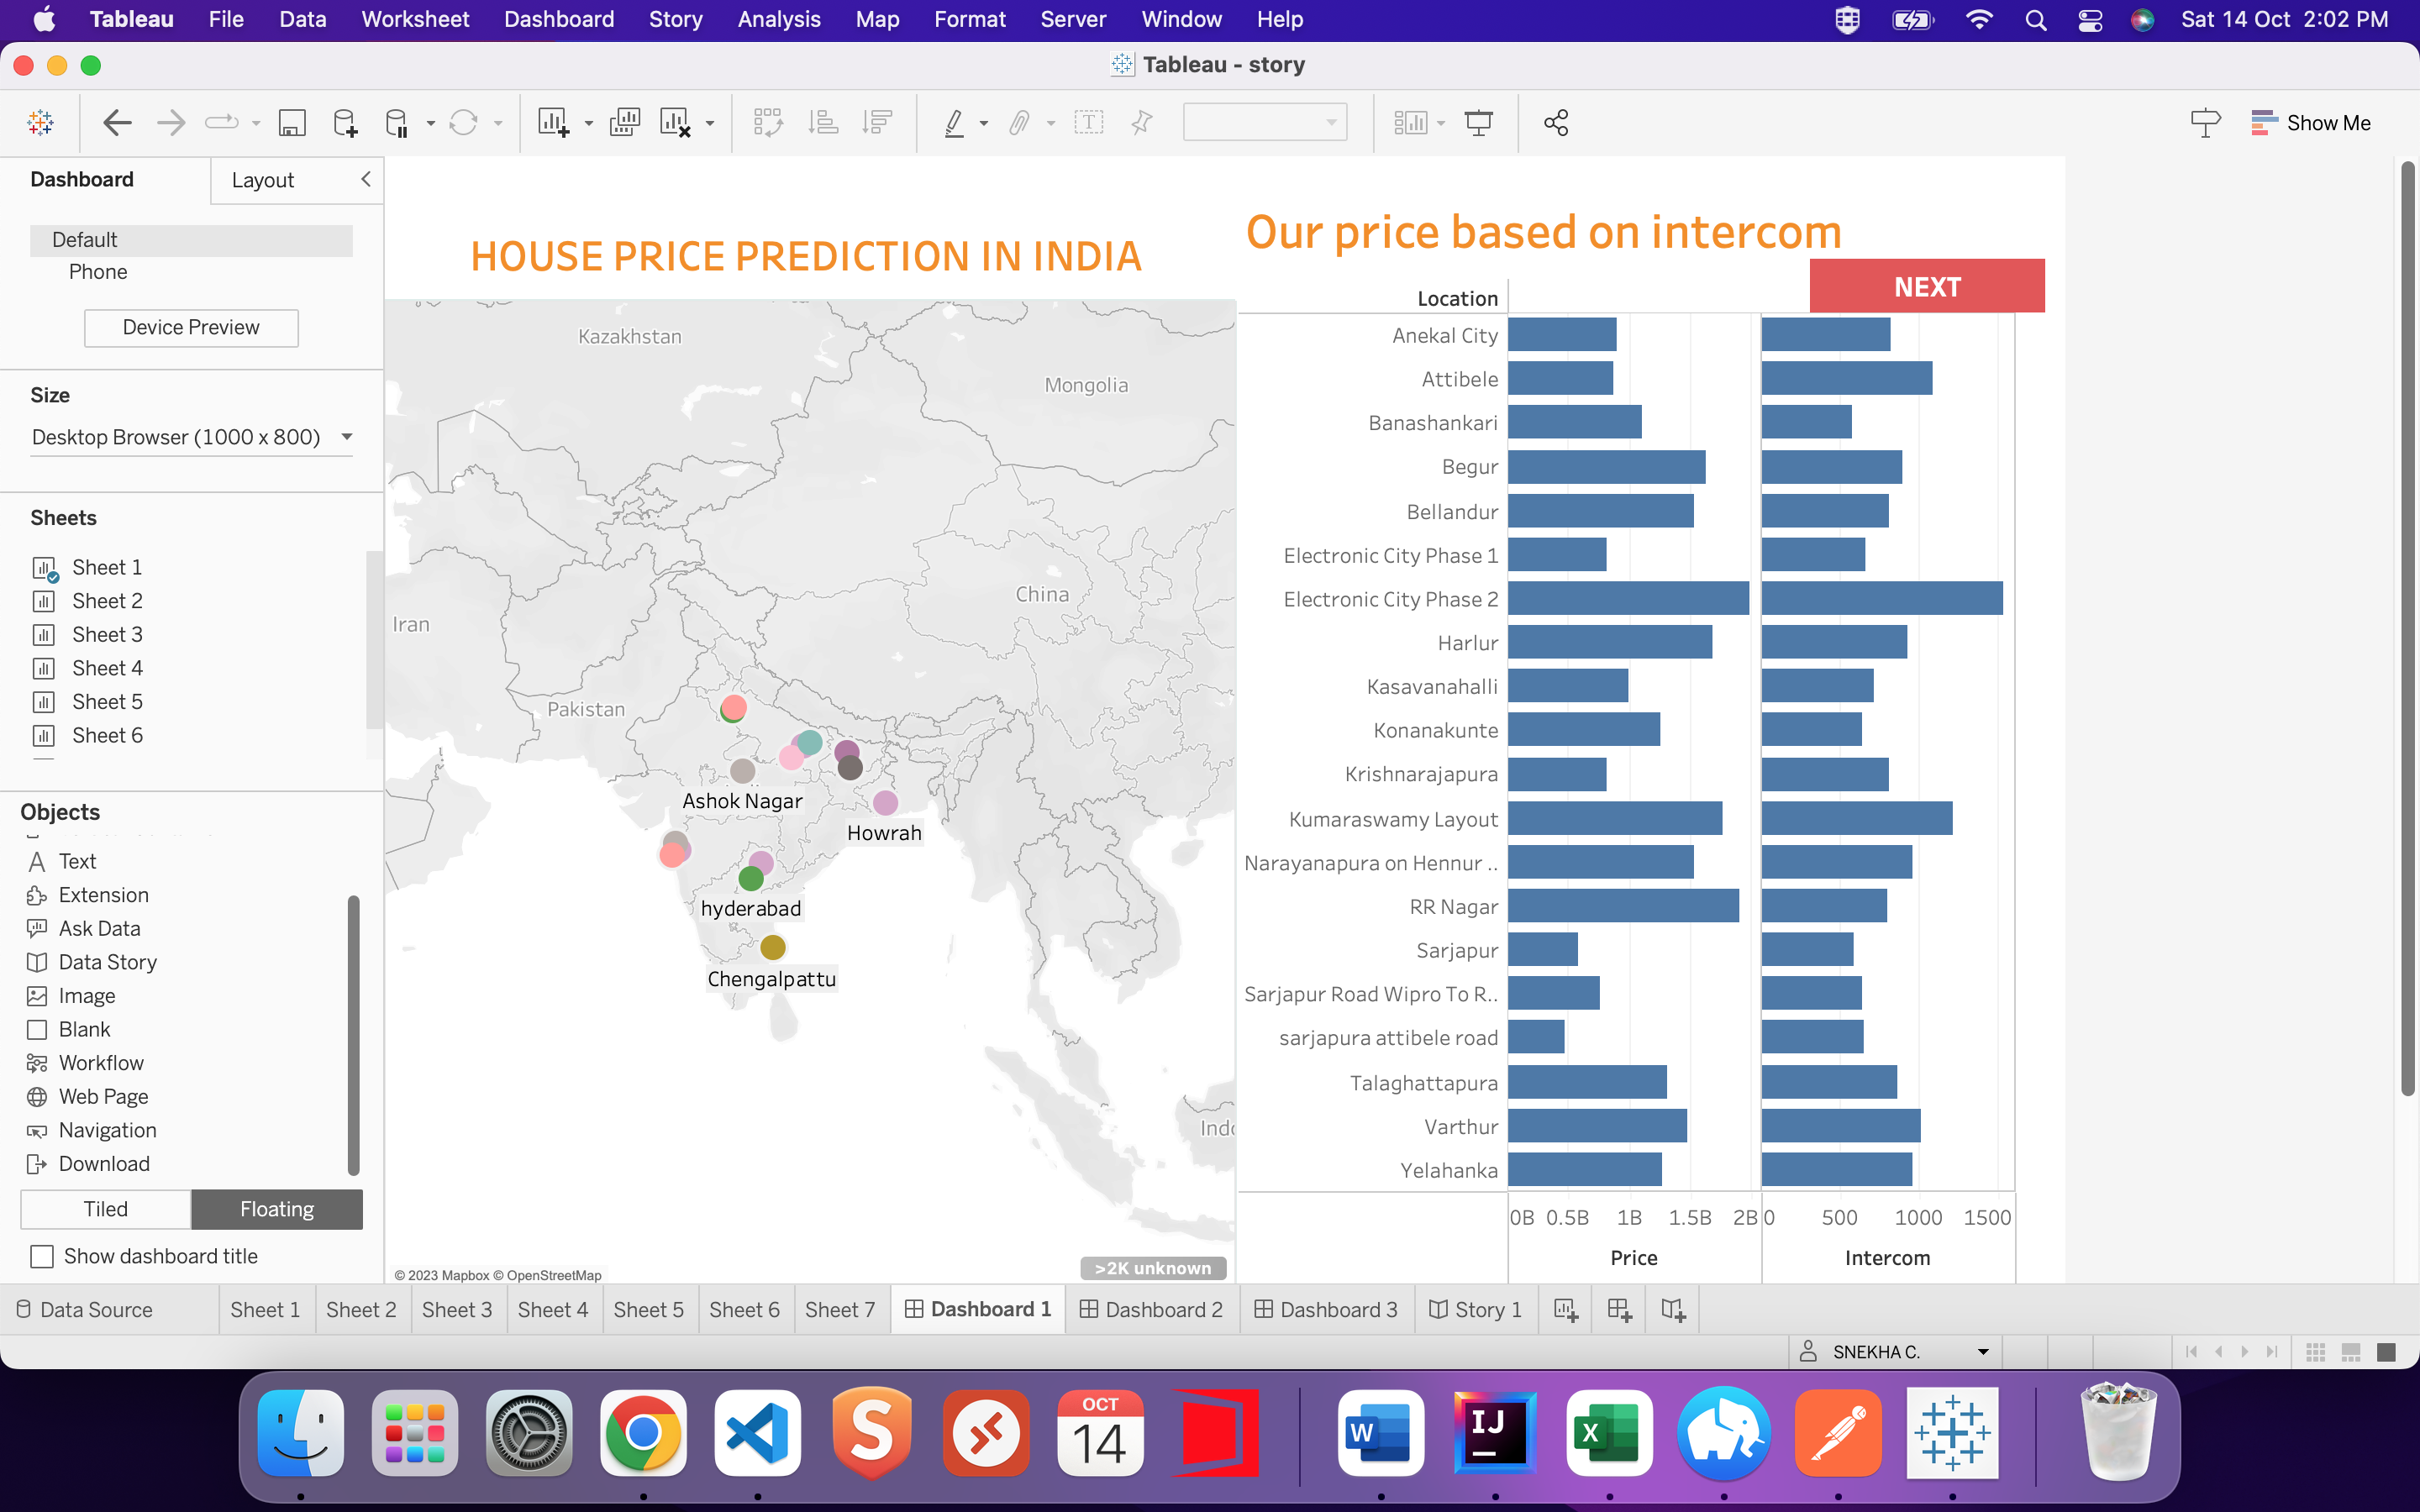

The page's visual inventory and layout, read from the dashboard file:
{"tool":"tableau","page":{"name":"Dashboard 1","canvas":[1000,800],"ordinal":0},"visuals":[{"type":"worksheet","title":"Sheet 7","mark":"Automatic","rows":["Location"],"cols":["Price","Intercom"],"box":[508,21,463,651]},{"type":"worksheet","title":"Sheet 1","mark":"Automatic","box":[0,38,507,637]},{"type":"dashboard-object","box":[848,61,140,32]}]}

Visuals, with their boxes on the page's 1000x800 design canvas (x1, y1, x2, y2). These are canvas units, not pixel positions in the 2420x1512 screenshot, which may show the page scaled, cropped or inside an application window:
"Sheet 7" worksheet: [x1=508, y1=21, x2=971, y2=672]
"Sheet 1" worksheet: [x1=0, y1=38, x2=507, y2=675]
dashboard-object: [x1=848, y1=61, x2=988, y2=93]
